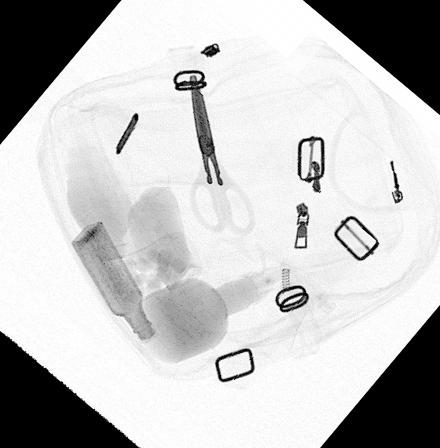Scissors: (186, 74, 257, 239)
